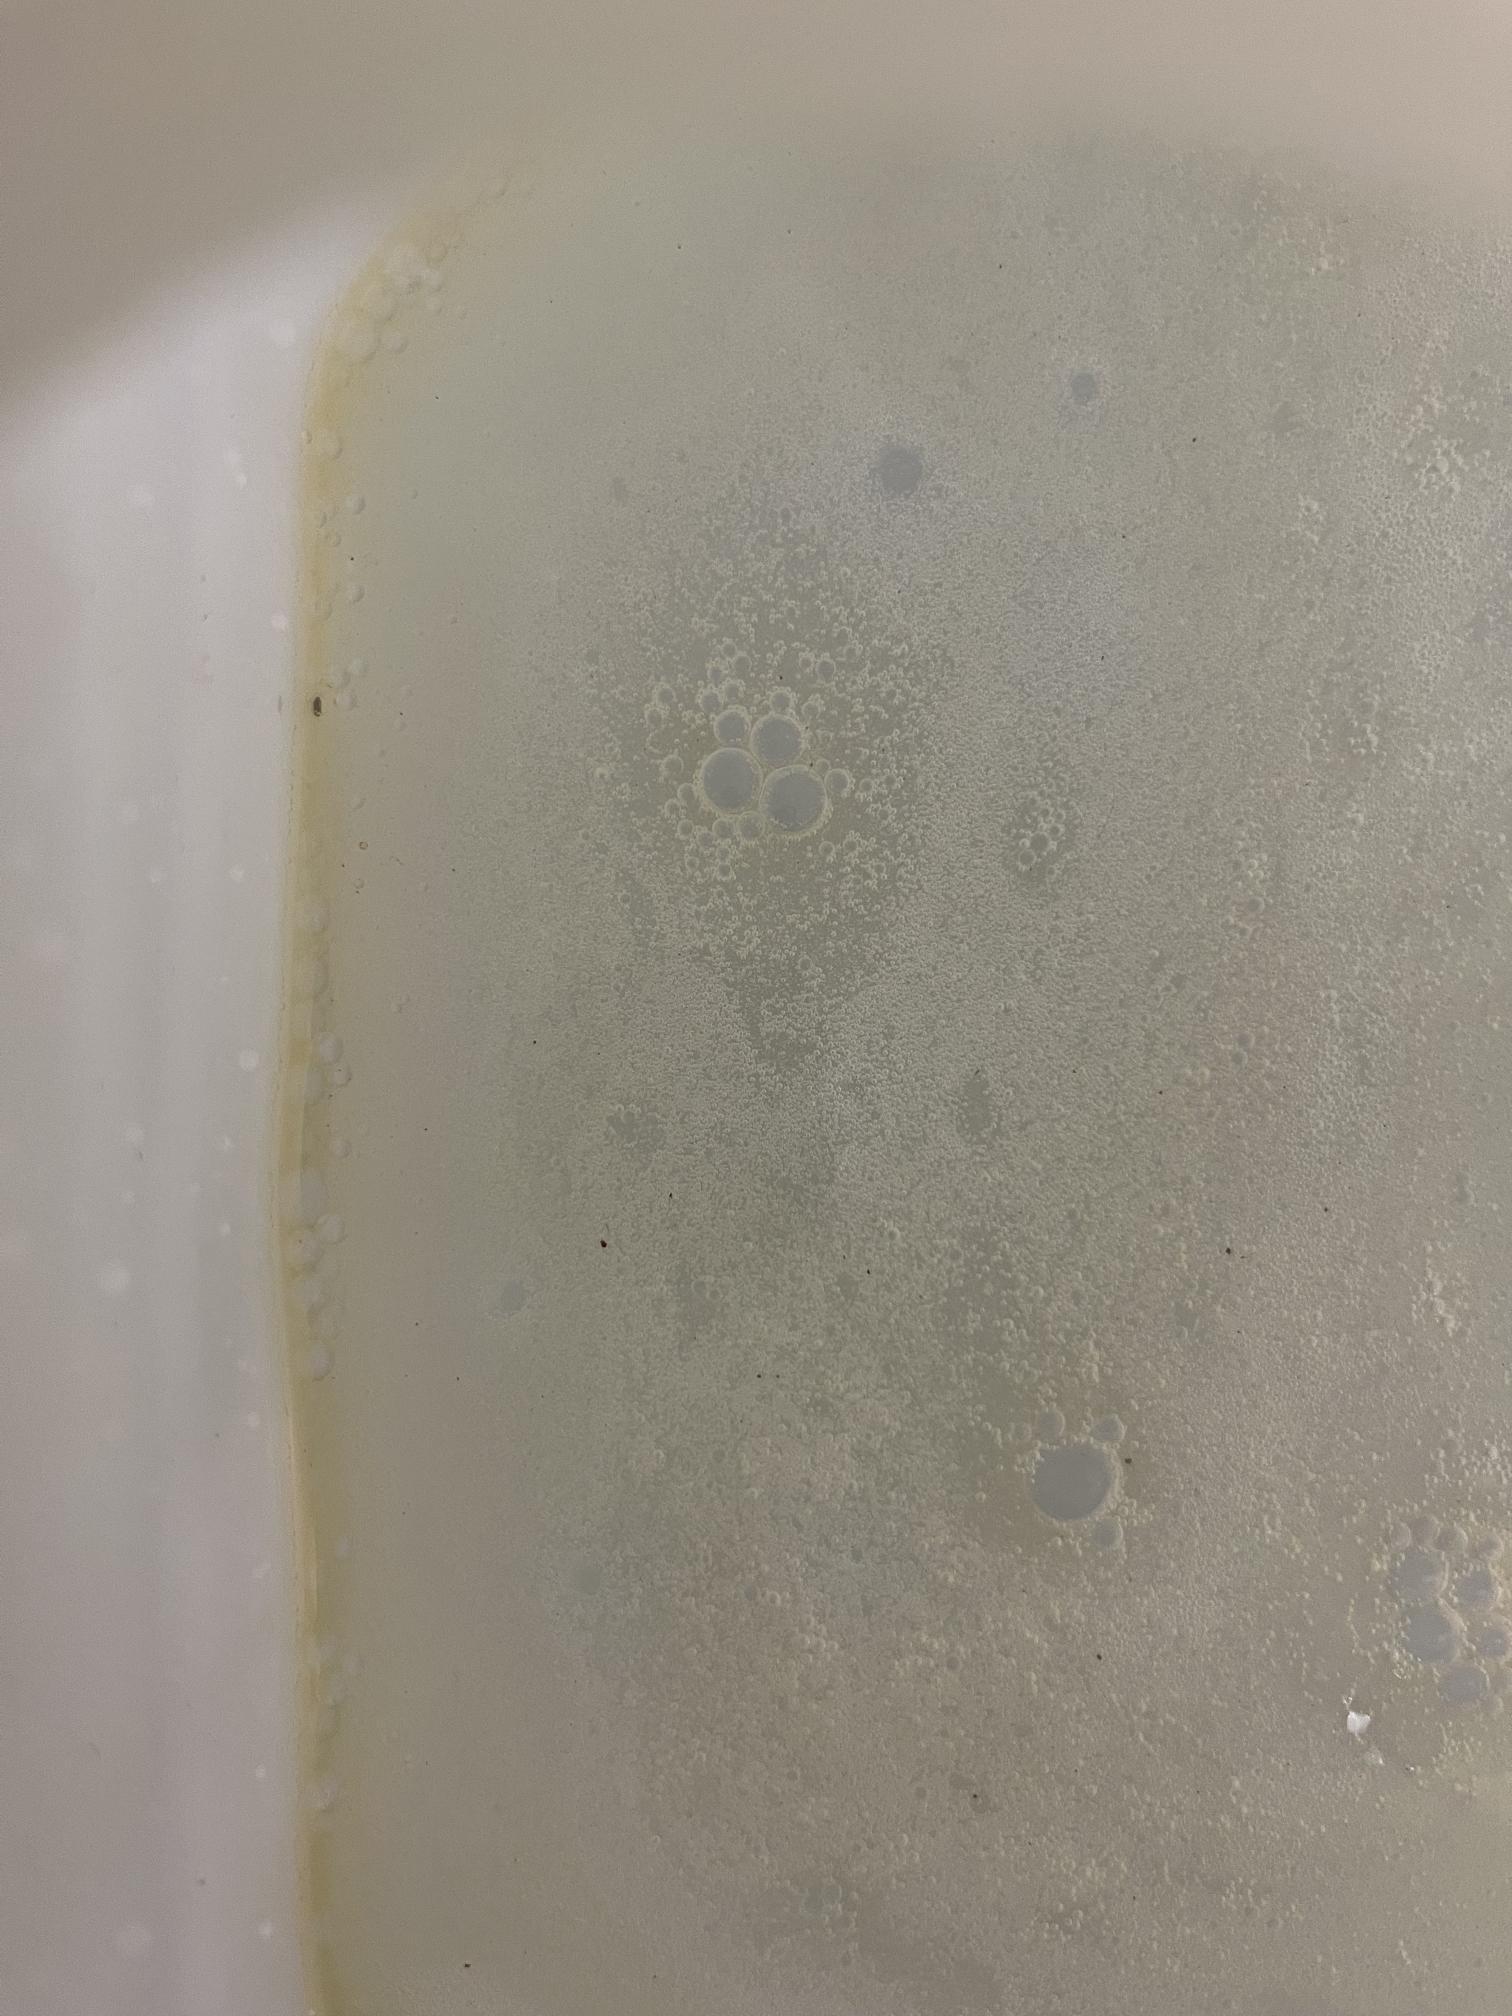Presenca de Oleo - - 60ml: (184, 130, 1425, 1949)
